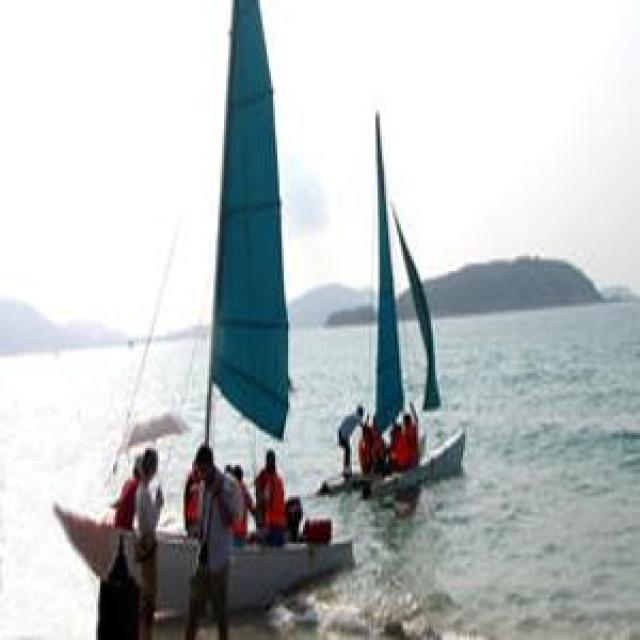sailboat: (56, 0, 359, 608), (326, 108, 474, 496)
